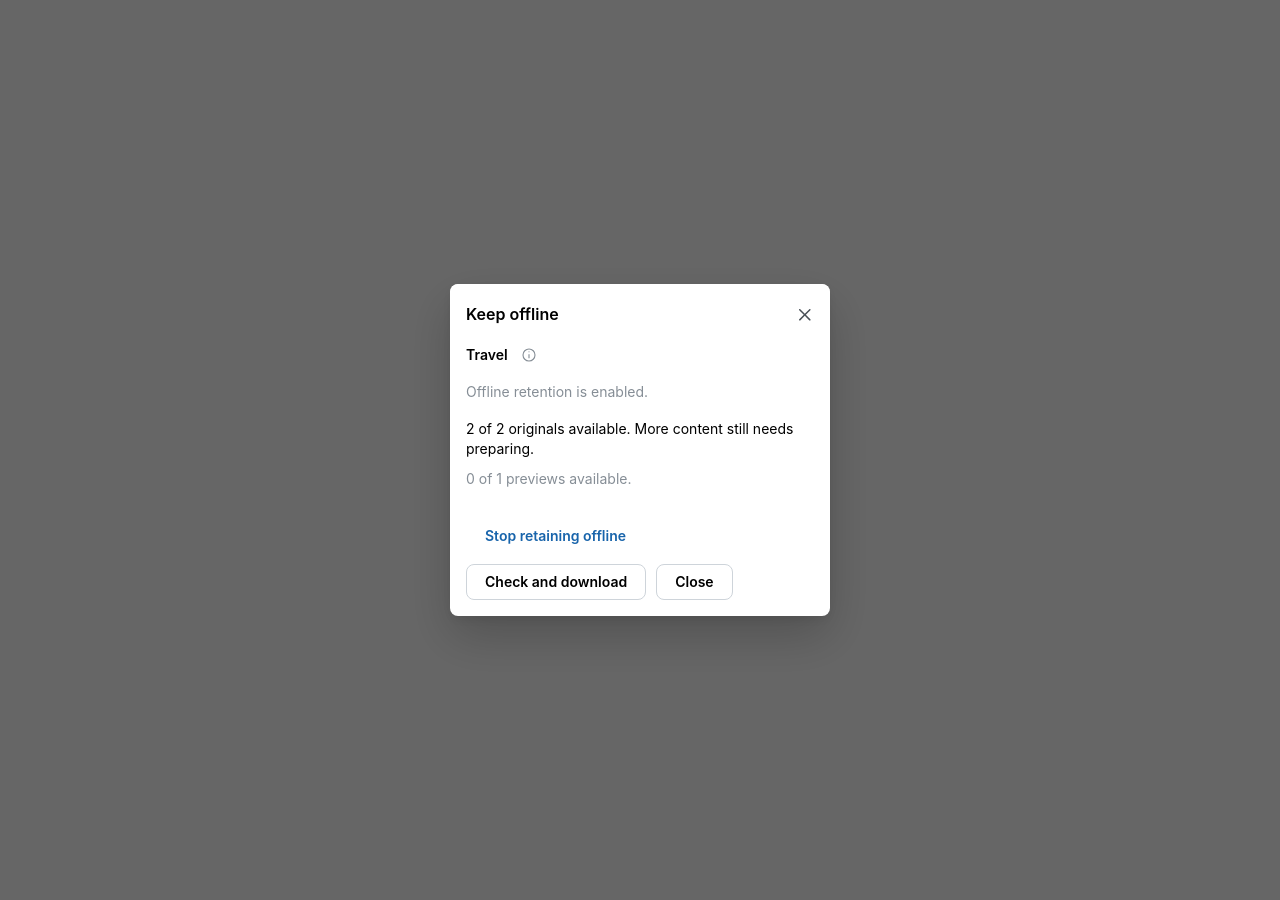
prepares previews even when every original is already local
The width and height of the screenshot is (1280, 900).
Check: the text "0 of 1 previews available." is shown, box 466,470 -> 632,487
Check: the text "All required originals and previews are available offline." is not shown
Click the button "Check and download" at (556, 582), box 466,564 -> 646,600
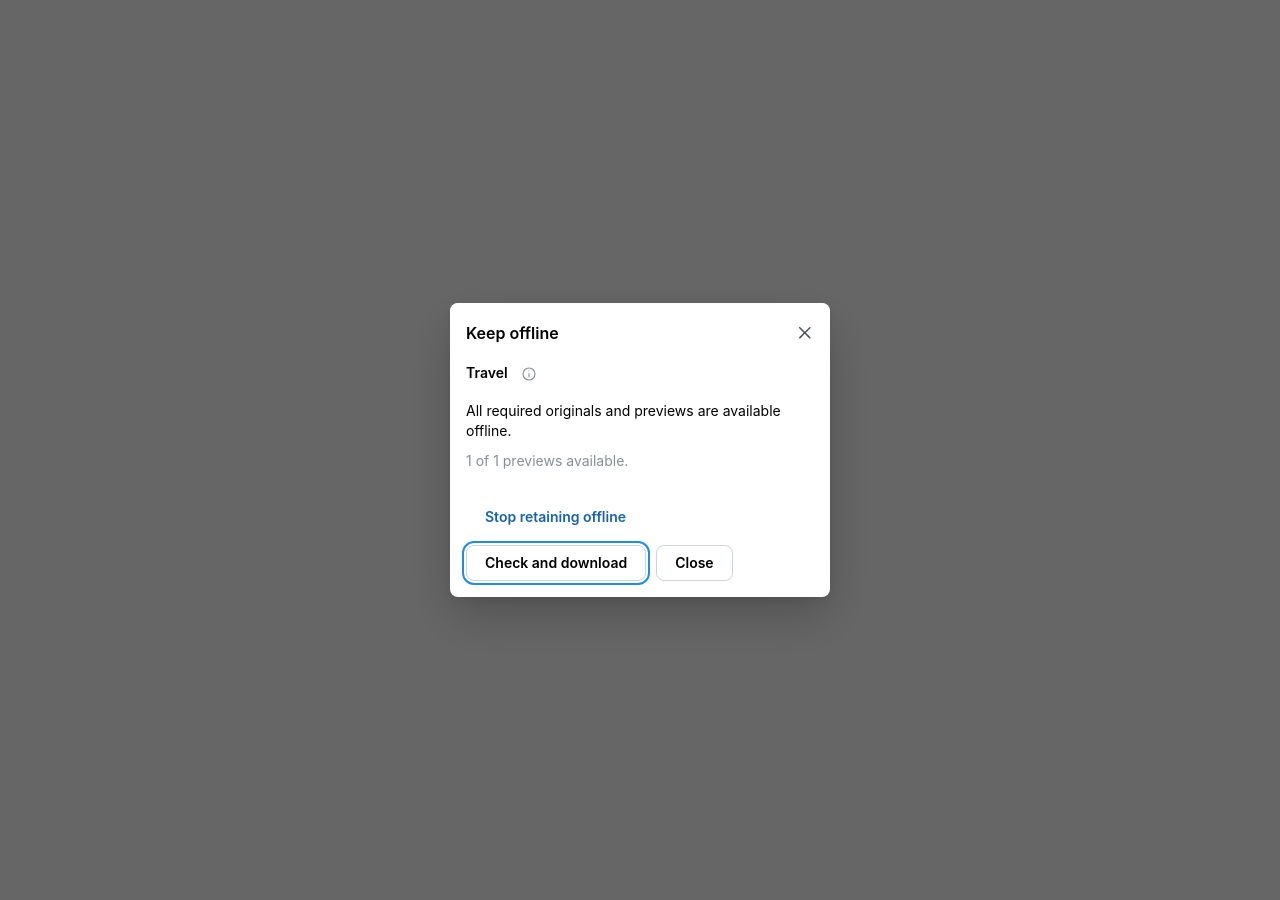
Check: the text "All required originals and previews are available offline." is shown, box 466,400 -> 814,441
